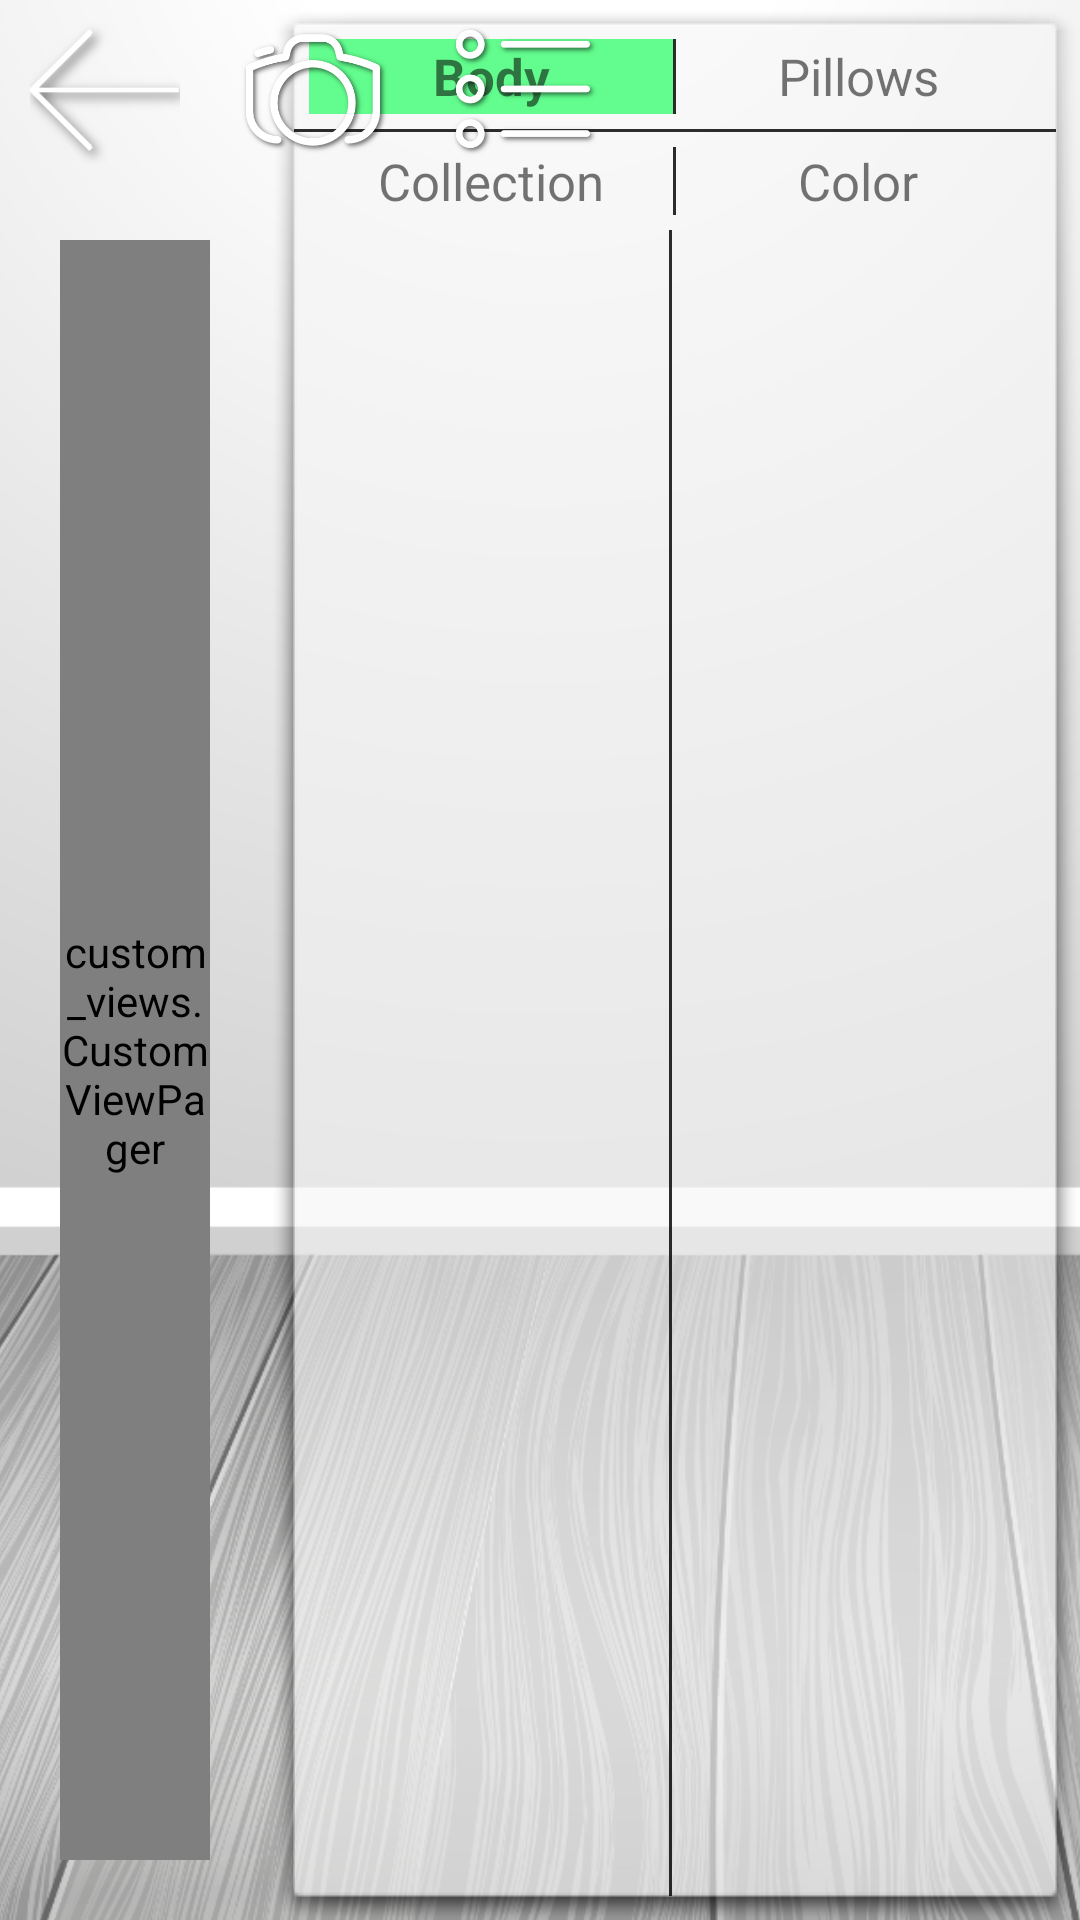

Where to tap for icons on this 1080 × 1920 app screen, as (x,y):
back: (105,95)
camera: (317,93)
menu: (525,93)
